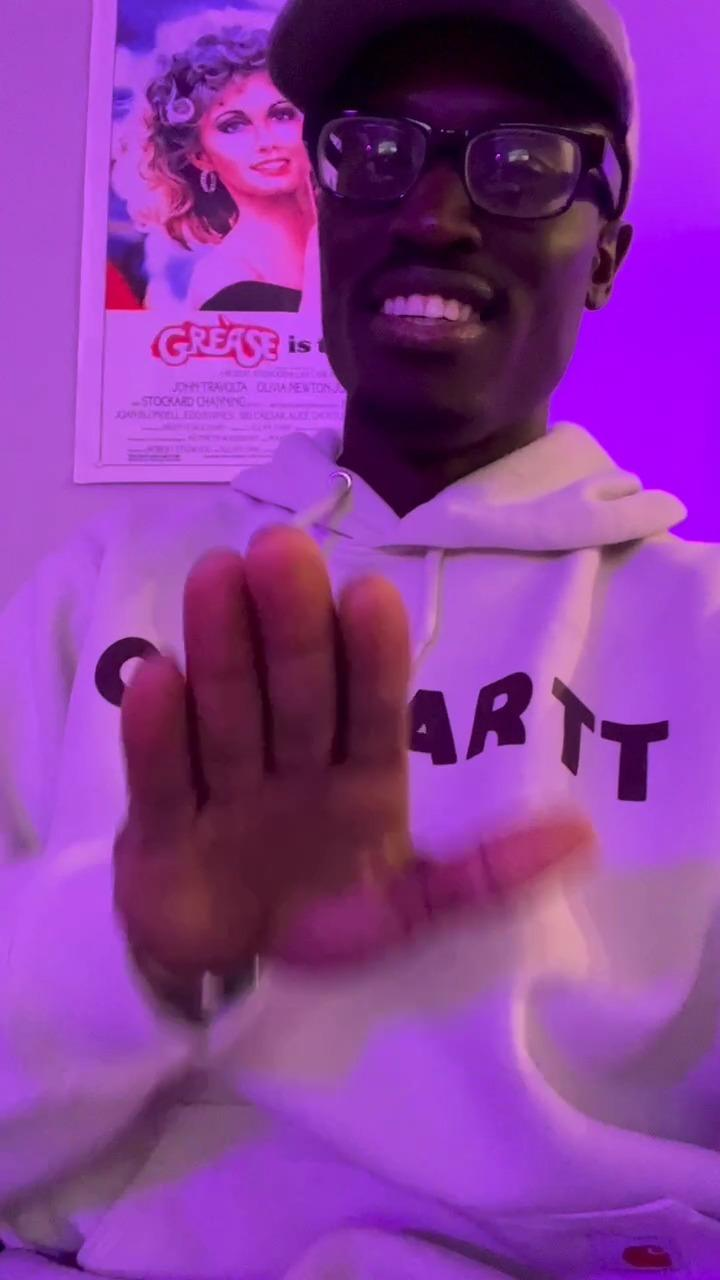Paper: (122, 518, 589, 982)
